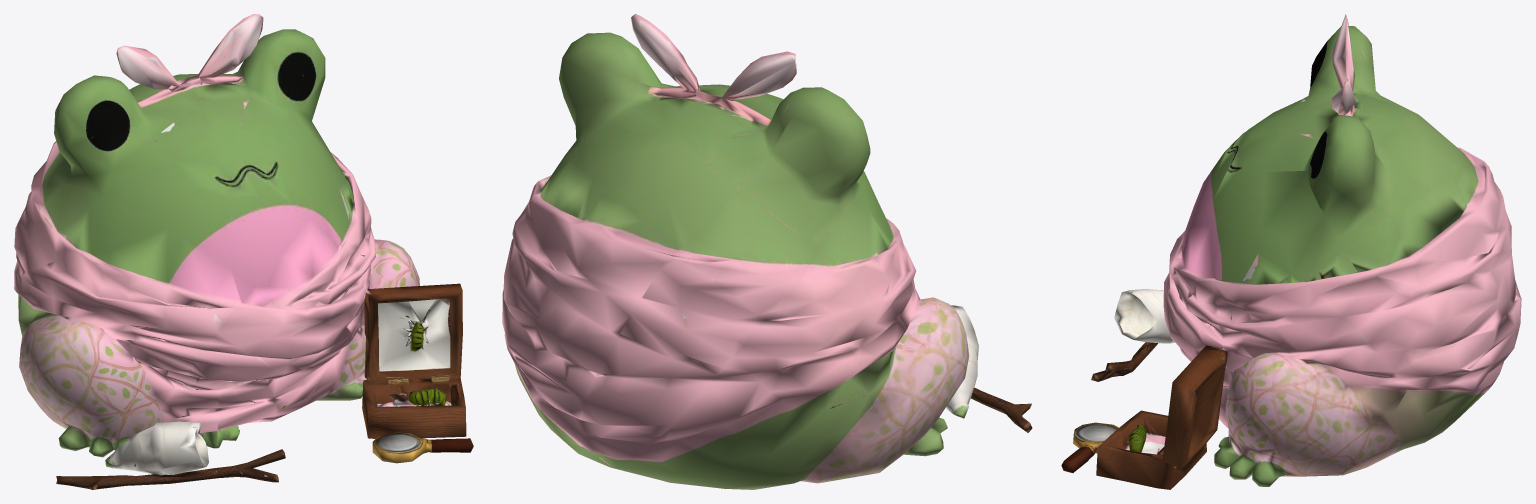
The model's file is cocon.glb.
3 views of the same model, side by side, from view 1: azimuth 30°, elevation 25°; view 2: azimuth 150°, elevation 25°; view 3: azimuth 270°, elevation 25° (orthographic). The views are drawn at different scales.
Parts seen in each view (by area): view 1: mesh_node; view 2: mesh_node; view 3: mesh_node.
Part boxes in pixels (x1,y1,x2,y2): mesh_node: (14,14,473,489); mesh_node: (502,14,1032,489); mesh_node: (1061,14,1521,489).
Bounding box in the file's own units: 1.89 × 1.59 × 1.88.
Materials: 1 (1 with a texture image).
